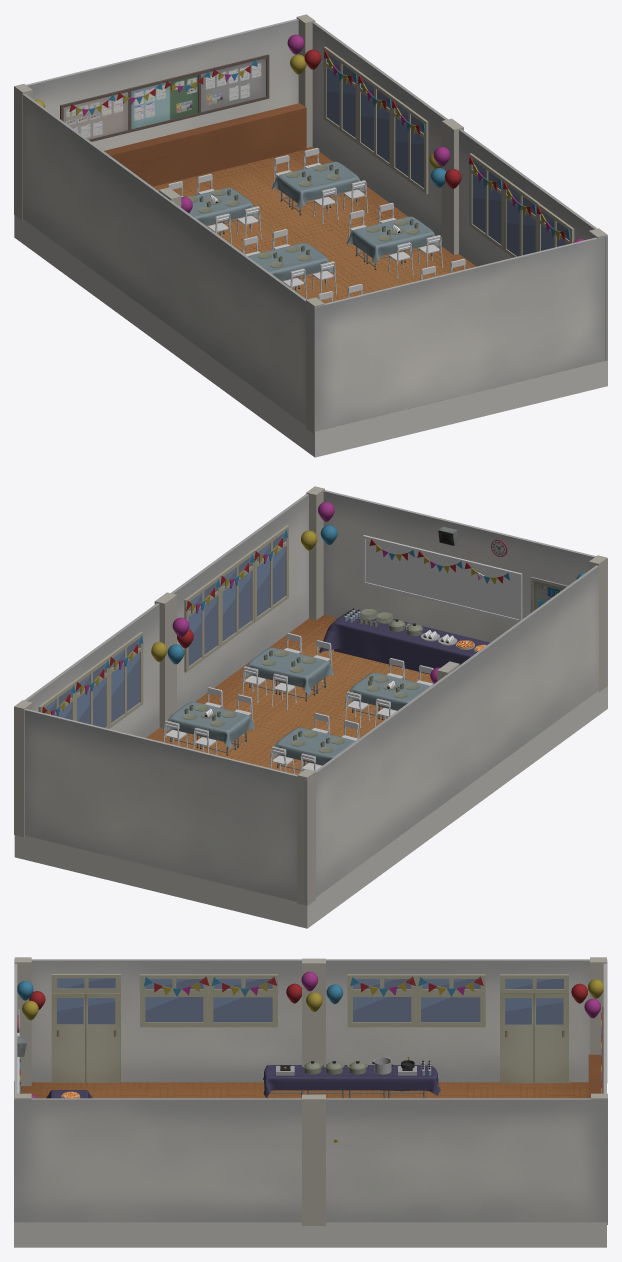
File: room10.fbx
3 renders of one model, top to bottom at view 1: azimuth 30°, elevation 25°; view 2: azimuth 150°, elevation 25°; view 3: azimuth 270°, elevation 25°, orthographic.
Visible parts, largest first — view 1: Cube.016, Cube.018, Cube, Cube.015, Cube.069, Cube.037, Cube.021, Cube.013, Plane_011.001, Plane_011, Cube.055, Cube.053 (+14 smaller); view 2: Cube.018, Cube.069, Cube, Cube.016, Cube.015, Cube.019, Plane_012, Cube.047, Cube.013, Plane_011.005, Plane_011, Cube.046 (+15 smaller); view 3: Cube.015, Cube.018, Cube, Cube.070, Cube.071, Plane_013.001, Cube.013, Cube.057, Cube.051, Cube.008, Cube.045, Cube.043 (+17 smaller).
Boxes of the visible parts, bbox=[...] form: Cube.016: bbox=[313, 237, 604, 432]; Cube.018: bbox=[23, 94, 306, 425]; Cube: bbox=[14, 146, 607, 457]; Cube.015: bbox=[312, 22, 607, 360]; Cube.069: bbox=[26, 18, 298, 150]; Cube.037: bbox=[104, 103, 306, 186]; Cube.021: bbox=[60, 54, 269, 141]; Cube.013: bbox=[441, 118, 463, 254]; Plane_011.001: bbox=[272, 161, 364, 208]; Plane_011: bbox=[346, 216, 439, 263]; Cube.055: bbox=[326, 53, 355, 137]; Cube.053: bbox=[472, 160, 501, 244]; Cube.018: bbox=[304, 565, 598, 903]; Cube.069: bbox=[24, 709, 297, 901]; Cube: bbox=[14, 615, 607, 928]; Cube.016: bbox=[323, 490, 607, 685]; Cube.015: bbox=[24, 494, 308, 737]; Cube.019: bbox=[363, 535, 522, 622]; Plane_012: bbox=[319, 609, 489, 668]; Cube.047: bbox=[297, 769, 315, 905]; Cube.013: bbox=[154, 592, 176, 728]; Plane_011.005: bbox=[242, 647, 334, 694]; Plane_011: bbox=[163, 701, 255, 748]; Cube.046: bbox=[306, 486, 324, 620]; Cube.015: bbox=[14, 1098, 607, 1222]; Cube.018: bbox=[31, 959, 607, 1082]; Cube: bbox=[14, 1081, 606, 1247]; Cube.070: bbox=[51, 993, 120, 1082]; Cube.071: bbox=[500, 993, 568, 1083]; Plane_013.001: bbox=[263, 1065, 440, 1097]; Cube.013: bbox=[302, 1094, 325, 1225]; Cube.057: bbox=[145, 997, 272, 1022]; Cube.051: bbox=[353, 997, 480, 1022]; Cube.008: bbox=[302, 958, 325, 1064]; Cube.045: bbox=[140, 993, 277, 1027]; Cube.043: bbox=[347, 993, 485, 1027].
Bounding box in the file's own units: 21262 × 10414 × 37583.
